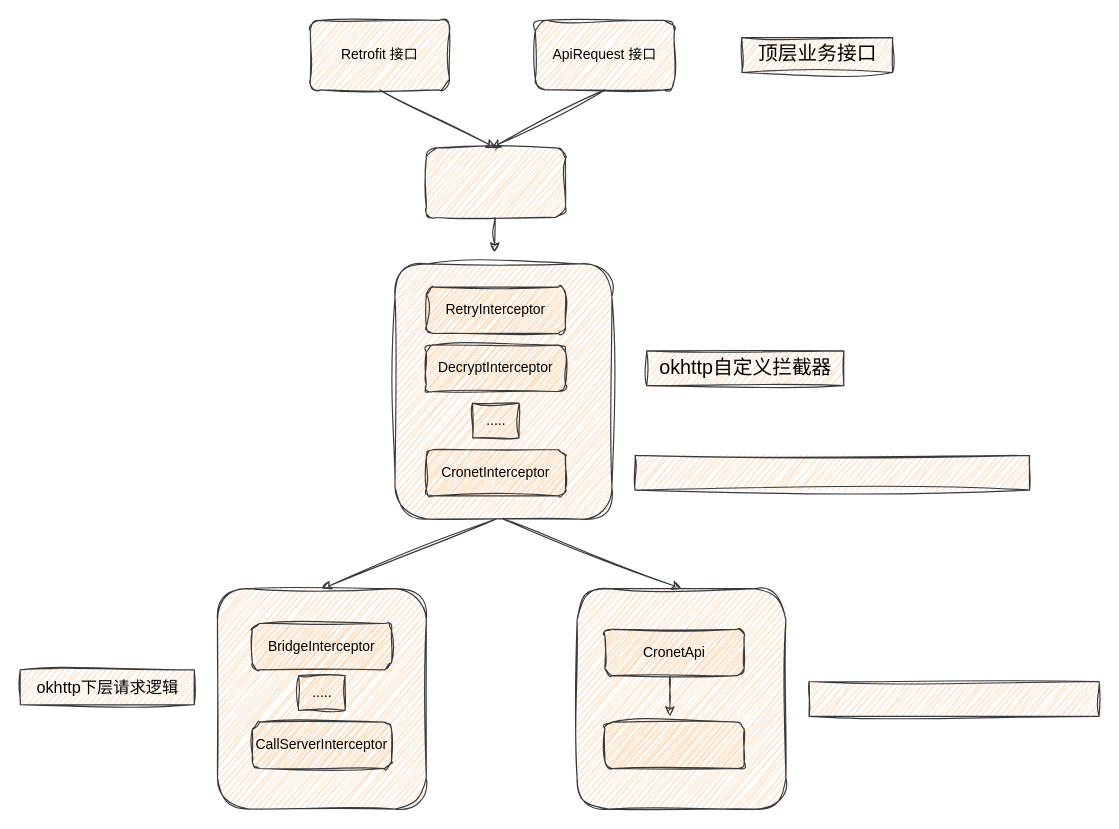
The diagram is 1119 pixels wide and 829 high, and some of its shapes have lost their labels. Here are the shapes that lost their labels. From the top down, the centre of each, then its label:
At pixel 495 182: "OkhttpClient".
At pixel 832 472: "最后一个拦截器，控制请求分发到okhttp或者Cronet".
At pixel 953 698: "通过CronetApi桥接到Cronet底层请求".
At pixel 674 744: "CronetEngine".
